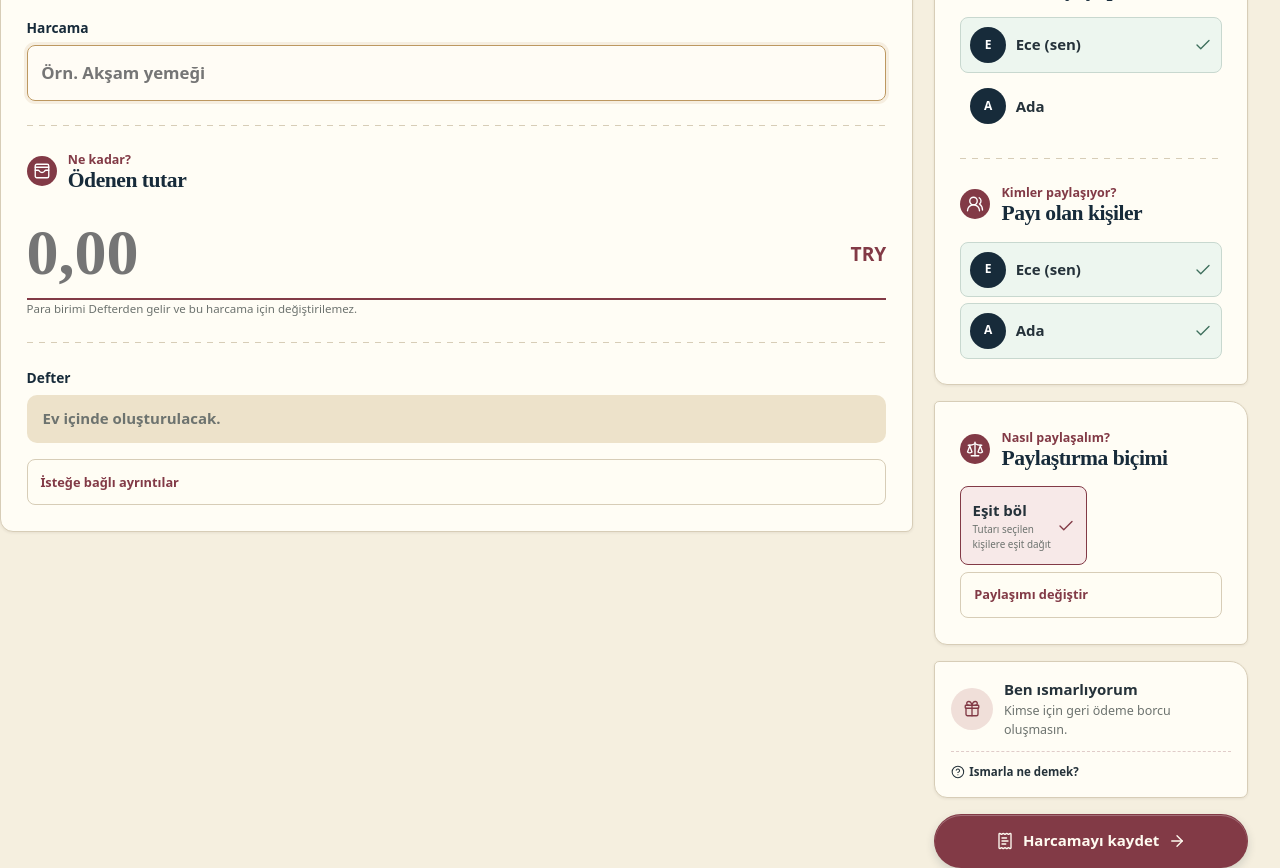
Test case: simple-first Expense form › associates core validation errors with their controls
(page scrolled)
Click the button "Harcamayı kaydet": (1091, 841) [934, 814, 1248, 867]
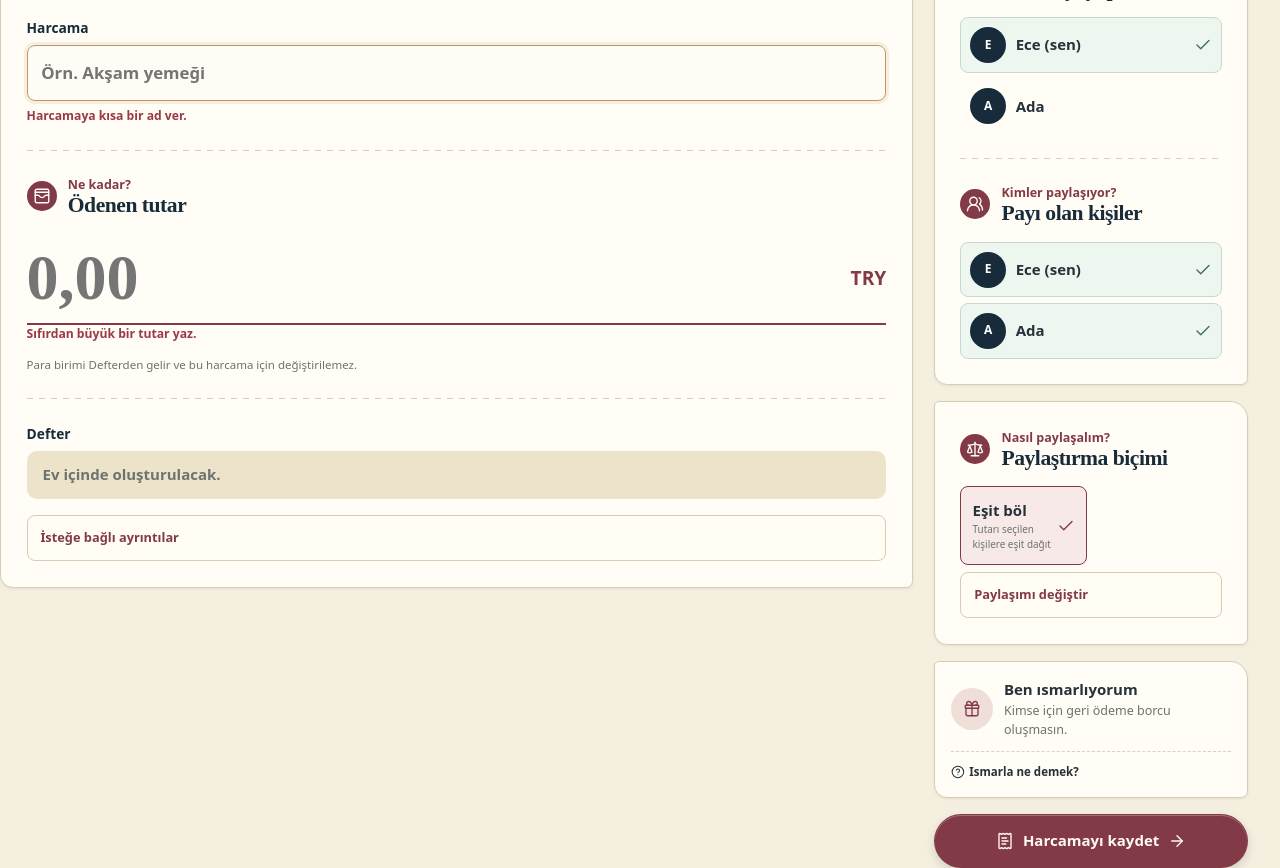
Expected: the text "Harcamaya kısa bir ad ver." is shown, [27, 107, 187, 124]
